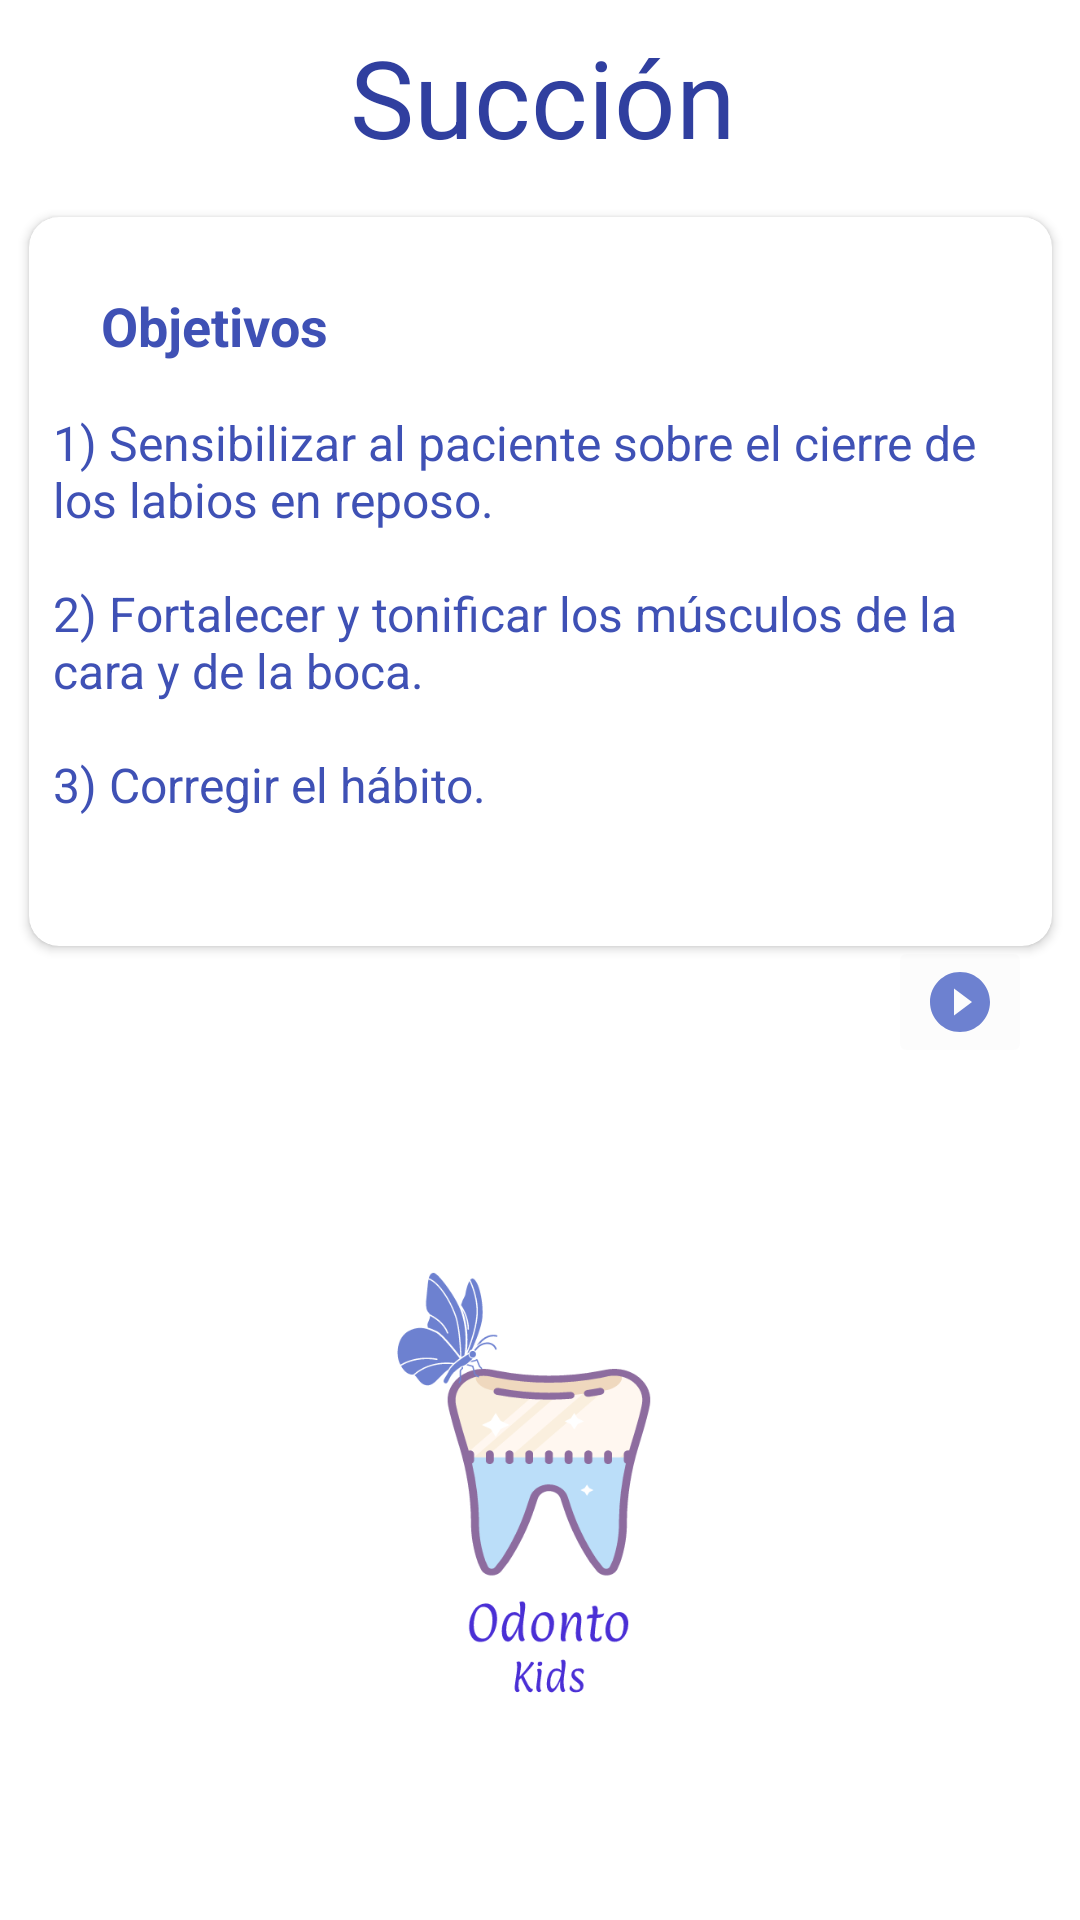

Icon click points for this 1080px x 1920px phone screenshot, format point (x, y):
play circle: point (960, 1002)
